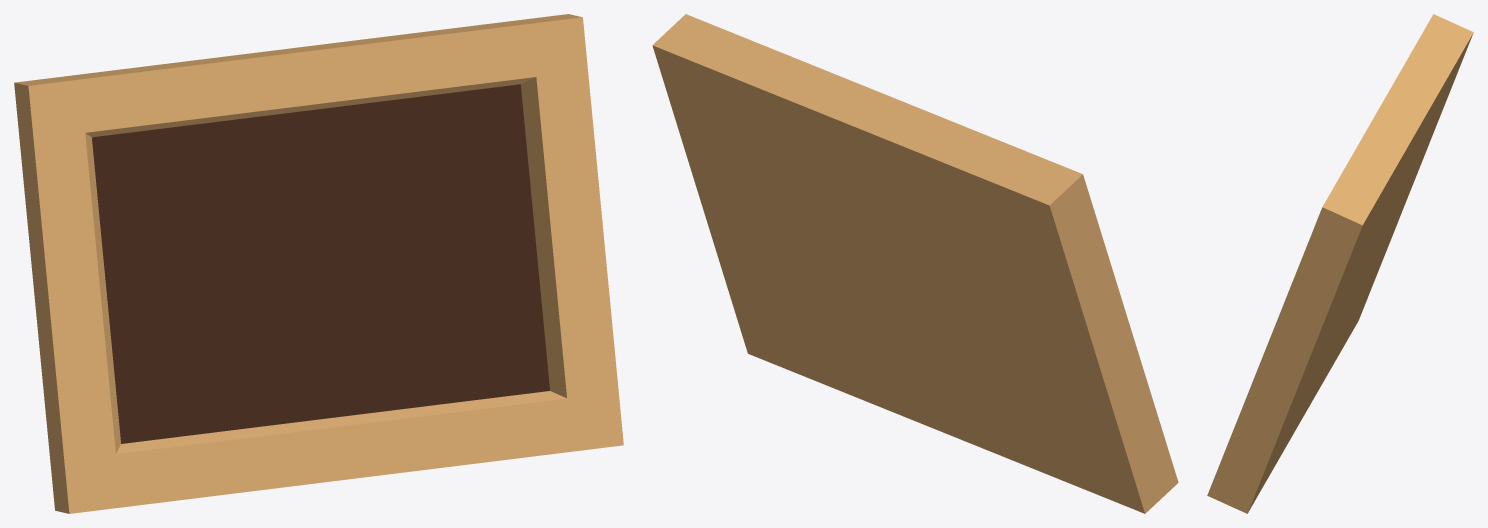
File: Bang.fbx
3 renders of one model, left to right at view 1: azimuth 30°, elevation 25°; view 2: azimuth 150°, elevation 25°; view 3: azimuth 270°, elevation 25°, orthographic. The views are drawn at different scales.
Parts seen in each view (by area): view 1: Bang; view 2: Bang; view 3: Bang.
Part boxes in pixels (x1,y1,x2,y2): Bang: [14, 14, 623, 513]; Bang: [652, 14, 1178, 513]; Bang: [1207, 14, 1473, 513].
Bounding box in the file's own units: 524 × 368 × 282.
